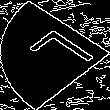L_SE: (14, 26, 96, 84)
